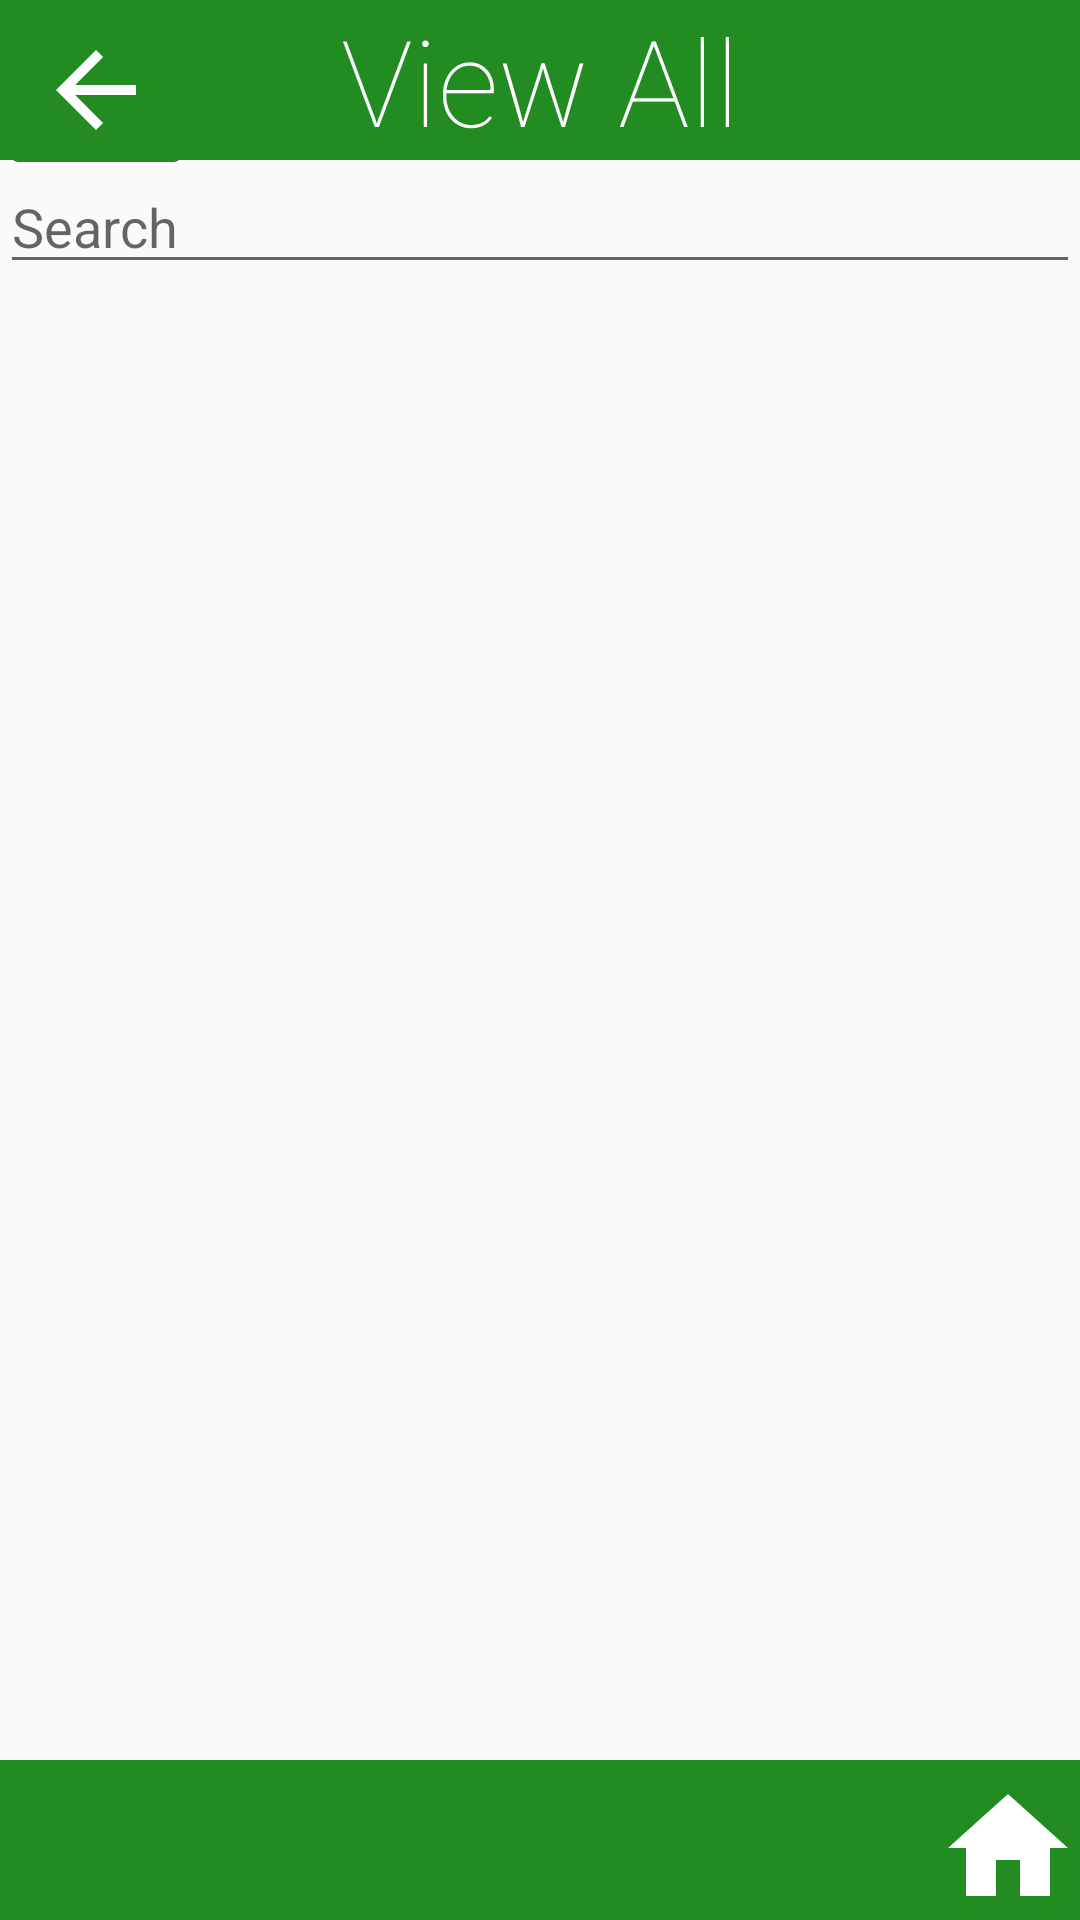

Point at icon controls on the screen. Image size 1080px×1920px, points as (x,y).
arrow back: (96,90)
home: (1008,1845)
